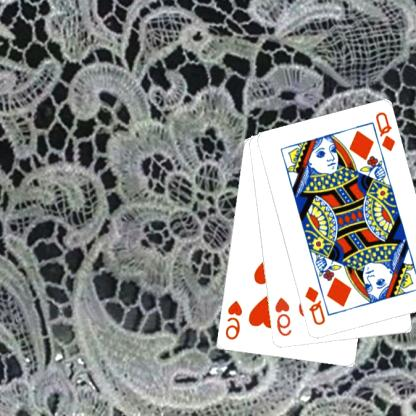6H: (274, 295, 294, 338)
9H: (223, 298, 245, 342)
QD: (374, 109, 399, 153), (304, 284, 328, 327)
